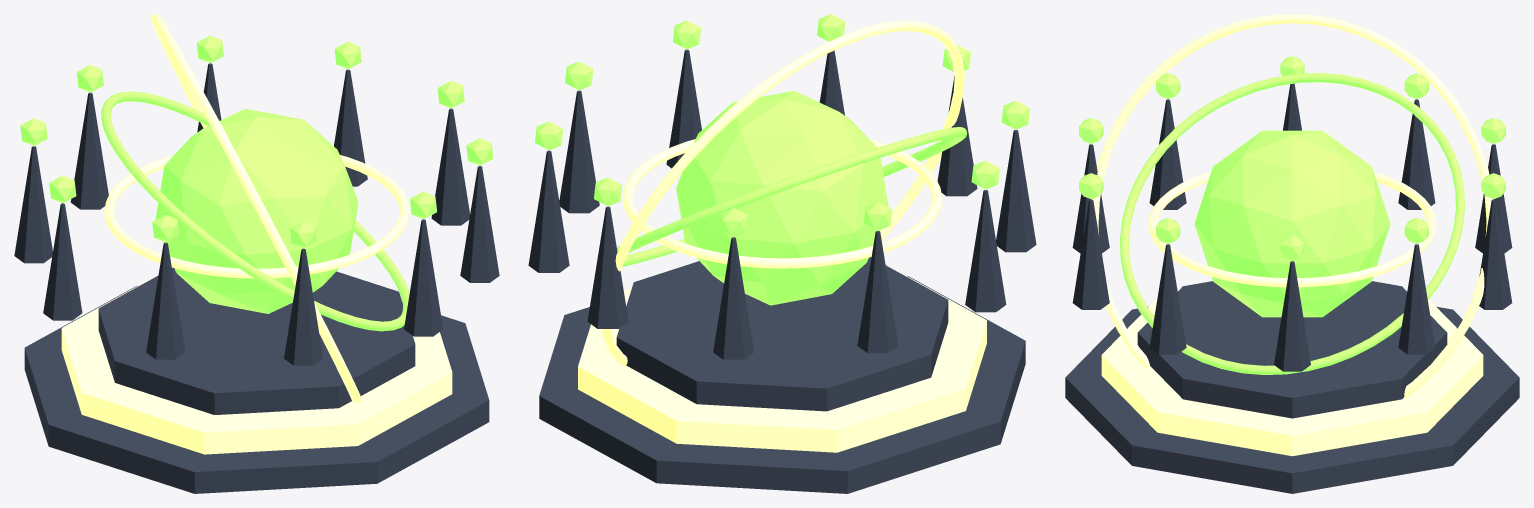
File: gpu-blender-v12.glb
3 views of the same model, side by side, from view 1: azimuth 30°, elevation 25°; view 2: azimuth 150°, elevation 25°; view 3: azimuth 270°, elevation 25° (orthographic). The views are drawn at different scales.
Parts seen in each view (by area): view 1: Cylinder.002, SovereignCore_agent-capsule-jail, Cylinder, Cylinder.001, Torus.001, Torus, Torus.002, Cone.004, Cone.005, Cone.008, Cone.006, Cone.007 (+15 smaller); view 2: Cylinder.002, SovereignCore_agent-capsule-jail, Cylinder, Cylinder.001, Torus.002, Torus, Torus.001, Cone.004, Cone.005, Cone.006, Cone.003, Cone.001 (+14 smaller); view 3: SovereignCore_agent-capsule-jail, Cylinder.002, Cylinder, Cylinder.001, Torus.001, Torus.002, Torus, Cone.001, Cone.009, Cone, Cone.008, Cone.002 (+14 smaller).
Part boxes in pixels (x1=…): Cylinder.002: x1=98, y1=267, x2=415, y2=414; SovereignCore_agent-capsule-jail: x1=155, y1=108, x2=358, y2=313; Cylinder: x1=24, y1=286, x2=489, y2=493; Cylinder.001: x1=61, y1=276, x2=452, y2=454; Torus.001: x1=101, y1=91, x2=409, y2=331; Torus: x1=104, y1=155, x2=409, y2=278; Torus.002: x1=150, y1=14, x2=361, y2=403; Cone.004: x1=14, y1=146, x2=52, y2=263; Cone.005: x1=43, y1=203, x2=82, y2=320; Cone.008: x1=404, y1=219, x2=443, y2=336; Cone.006: x1=146, y1=242, x2=185, y2=359; Cone.007: x1=284, y1=248, x2=323, y2=365; Cylinder.002: x1=616, y1=257, x2=948, y2=411; SovereignCore_agent-capsule-jail: x1=676, y1=90, x2=888, y2=305; Cylinder: x1=539, y1=276, x2=1025, y2=493; Cylinder.001: x1=578, y1=266, x2=986, y2=452; Torus.002: x1=601, y1=20, x2=964, y2=366; Torus: x1=623, y1=139, x2=941, y2=268; Torus.001: x1=617, y1=127, x2=966, y2=266; Cone.004: x1=857, y1=231, x2=898, y2=353; Cone.005: x1=965, y1=190, x2=1006, y2=312; Cone.006: x1=996, y1=130, x2=1036, y2=252; Cone.003: x1=713, y1=237, x2=754, y2=359; Cone.001: x1=528, y1=150, x2=569, y2=272; SovereignCore_agent-capsule-jail: x1=1194, y1=130, x2=1390, y2=317; Cylinder.002: x1=1137, y1=281, x2=1447, y2=418; Cylinder: x1=1065, y1=306, x2=1519, y2=493; Cylinder.001: x1=1101, y1=298, x2=1483, y2=456; Torus.001: x1=1120, y1=73, x2=1464, y2=374; Torus.002: x1=1092, y1=14, x2=1492, y2=398; Torus: x1=1148, y1=171, x2=1436, y2=287; Cone.001: x1=1398, y1=244, x2=1435, y2=354; Cone.009: x1=1149, y1=244, x2=1186, y2=354; Cone: x1=1274, y1=261, x2=1310, y2=371; Cone.008: x1=1072, y1=199, x2=1109, y2=309; Cone.002: x1=1479, y1=199, x2=1512, y2=309.
Bounding box in the file's own units: 4.41 × 3.72 × 4.4.
